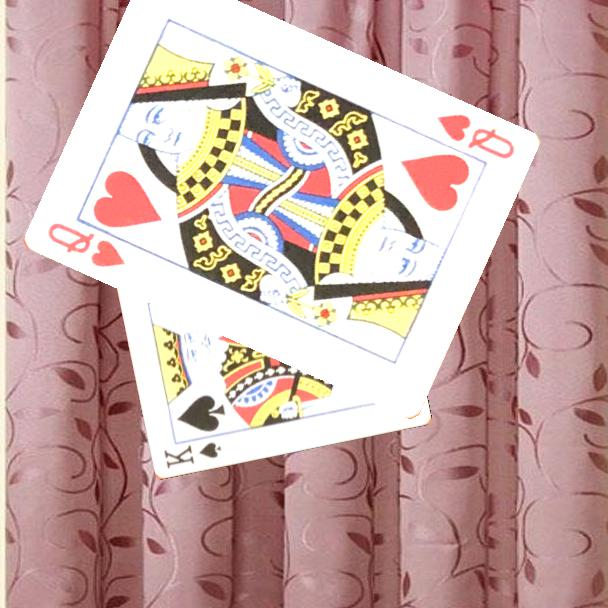h12: (432, 110, 517, 163), (43, 219, 128, 271)
s13: (160, 439, 224, 472)
